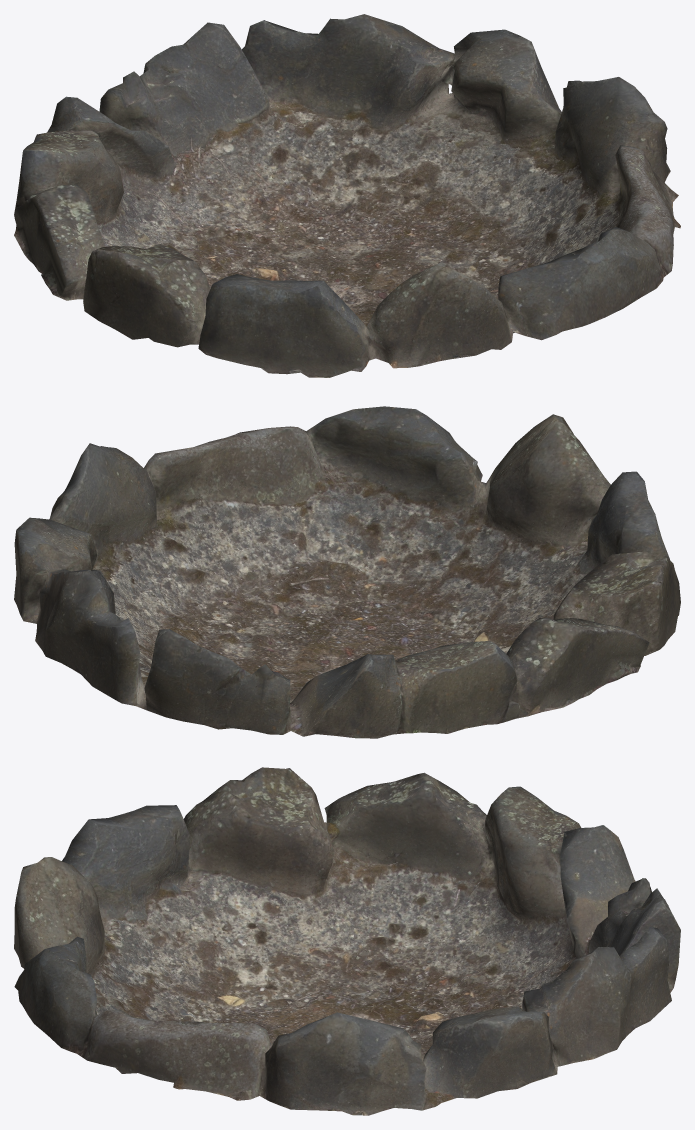
Rendered from ph_stone_fire_pit.glb.
3 views of the same model, one above another, from view 1: azimuth 30°, elevation 25°; view 2: azimuth 150°, elevation 25°; view 3: azimuth 270°, elevation 25° (orthographic).
Visible parts, largest first — view 1: stone_fire_pit; view 2: stone_fire_pit; view 3: stone_fire_pit.
Boxes of the visible parts, <box> form: stone_fire_pit: <box>14,14,680,377</box>; stone_fire_pit: <box>14,406,680,738</box>; stone_fire_pit: <box>14,767,680,1115</box>.
Size of what is drawn, in the model's own units: 1.45 by 0.3883 by 1.43.
1 material, 1 textured.
